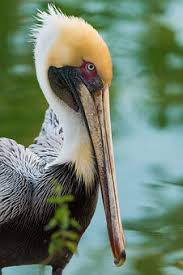pelican: (1, 2, 126, 266)
